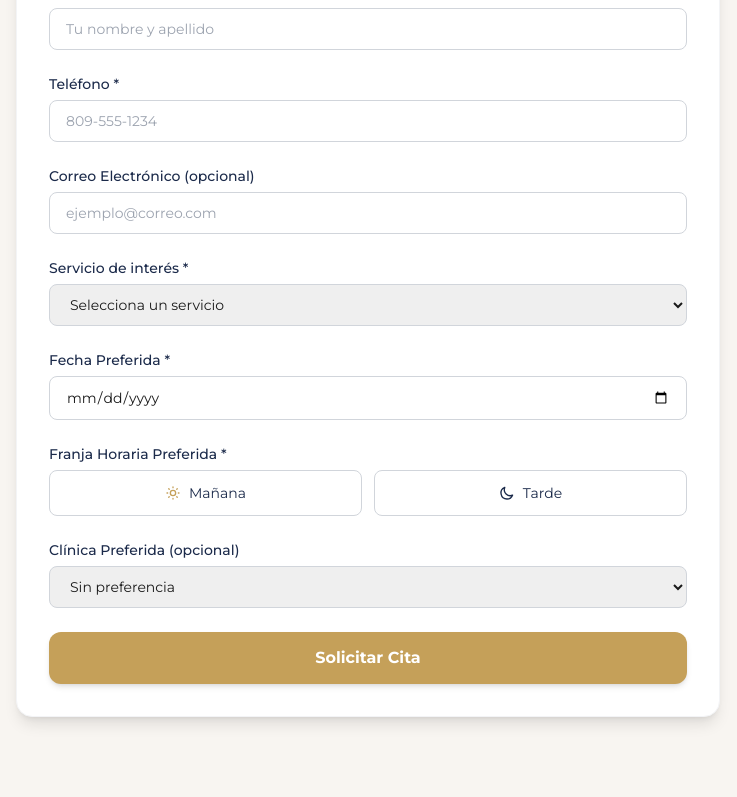
Scenario: AppointmentForm - Clinic Selection › should allow deselecting manually selected clinic
(page scrolled)
Note: Select a clinic
Step 1. Select "Clínica Centro — Calle Principal 123" in the dropdown labelled "Clínica Preferida (opcional)" → (368, 587), box [49,566,687,608]
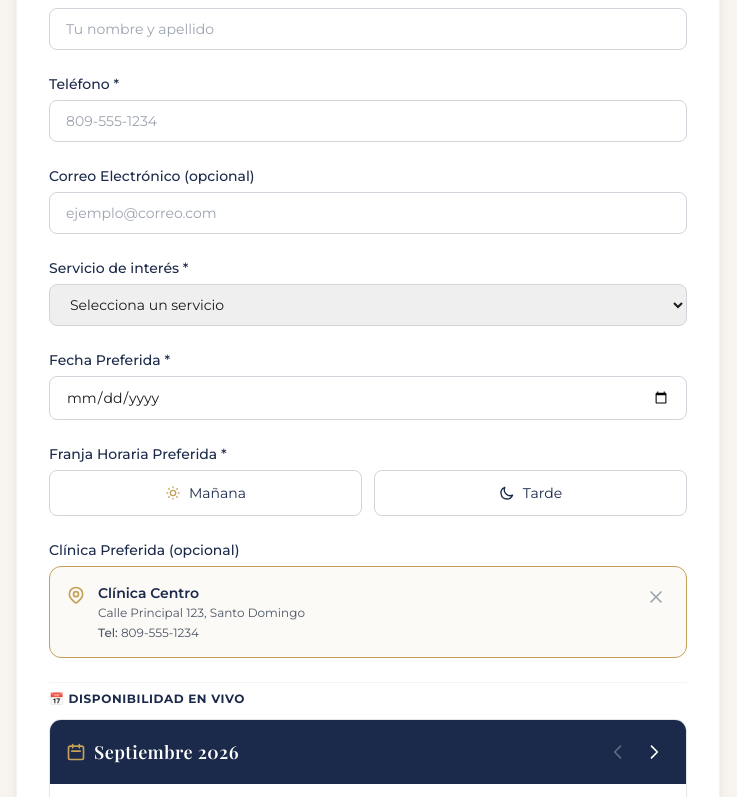
Expected: the text "Clínica Centro" is shown, [98,584,199,602]
Note: Deselect the clinic using the X button
Step 2. Click the button named "deseleccionar clínica" → (656, 597), box [642,583,670,611]
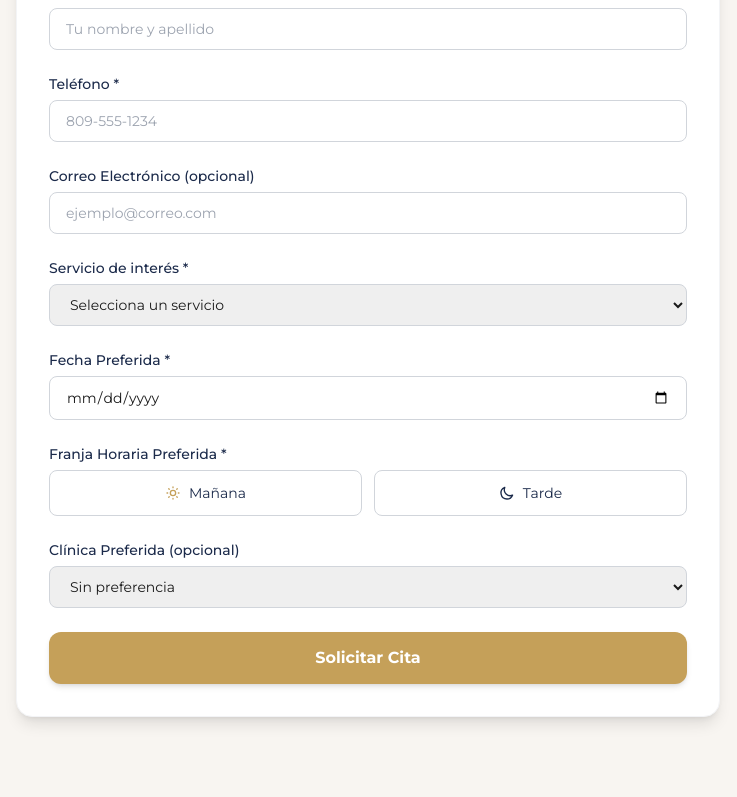
Expected: the dropdown labelled "Clínica Preferida (opcional)" is shown, [49,566,687,608]
Expected: the text "Clínica Centro" is gone
